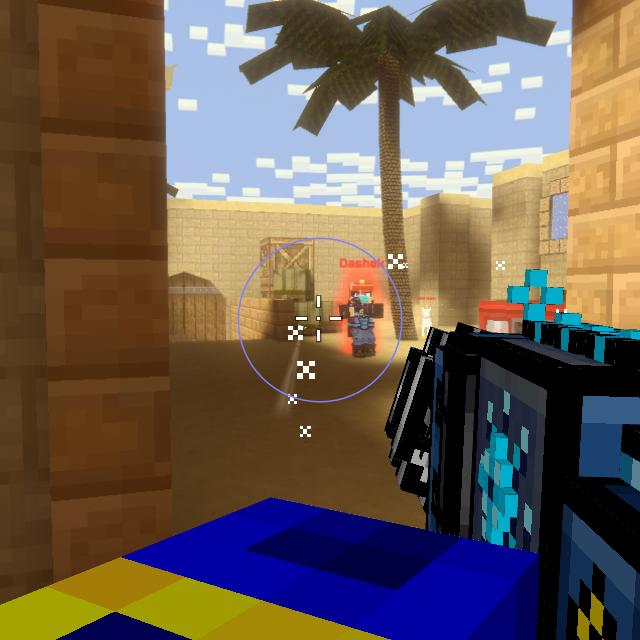Enemy: (338, 280, 384, 358)
